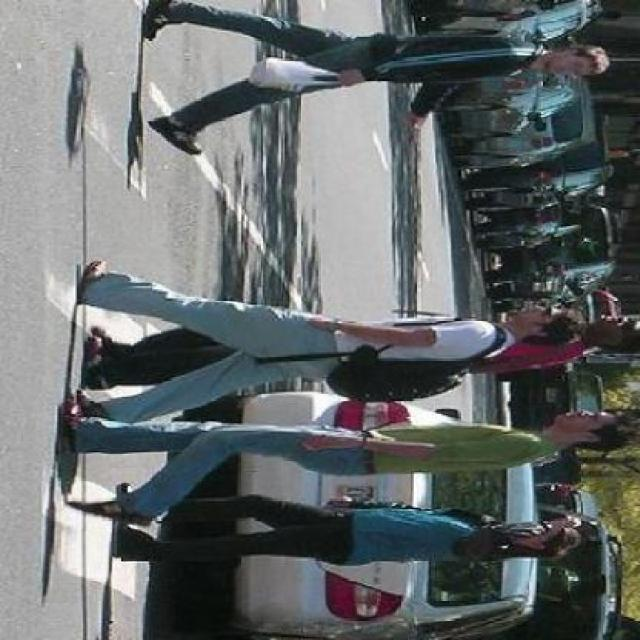Person: (71, 242, 586, 418), (128, 0, 613, 152), (45, 393, 633, 509), (99, 494, 596, 575)
